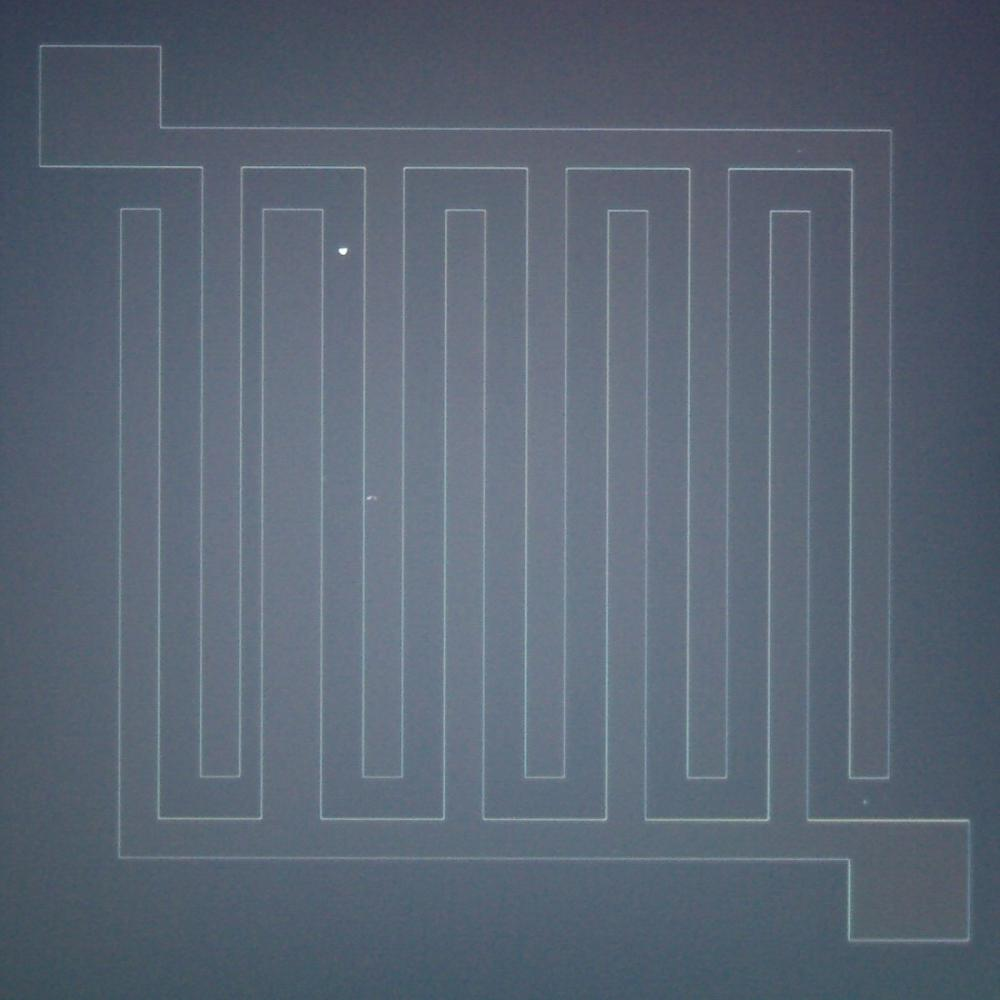dot: (338, 246, 348, 256), (797, 148, 802, 154), (366, 496, 372, 501), (862, 800, 867, 805)
